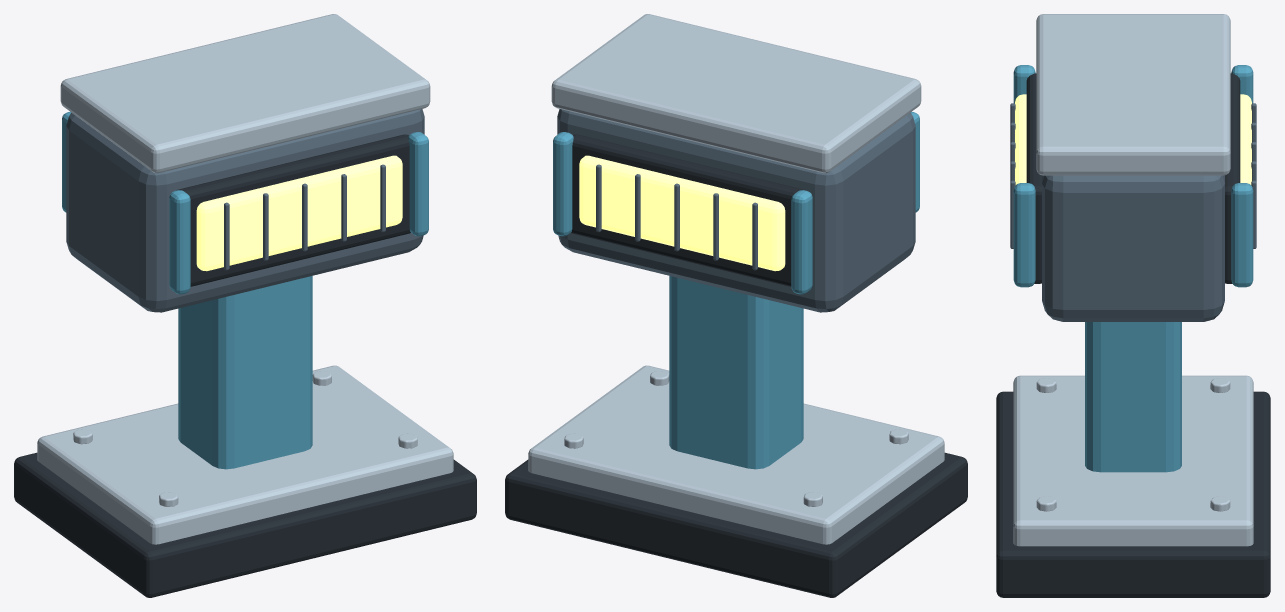
File: Beacon.fbx
The picture shows the model from 3 angles, left to right: view 1: azimuth 30°, elevation 25°; view 2: azimuth 150°, elevation 25°; view 3: azimuth 270°, elevation 25°; orthographic projection.
Visible parts, largest first — view 1: Crown | Roof cap, Base | Anodized plate, Crown | Rugged housing, Base | Isolation shoe, Stem | Powder coat, Front | Lens, Front | Recess, Front | Shock bumper -0.24, Front | Shock bumper 0.24; view 2: Crown | Roof cap, Base | Anodized plate, Crown | Rugged housing, Base | Isolation shoe, Stem | Powder coat, Back | Lens, Back | Recess, Back | Shock bumper -0.24, Back | Shock bumper 0.24; view 3: Crown | Roof cap, Base | Anodized plate, Crown | Rugged housing, Base | Isolation shoe, Stem | Powder coat, Back | Shock bumper 0.24, Front | Shock bumper 0.24, Back | Recess, Front | Recess, Back | Lens, Front | Lens, Back | Shock bumper -0.24 (+1 smaller).
Boxes of the visible parts, x1,y1,x2,y2 form: Crown | Roof cap: (60, 14, 430, 173); Base | Anodized plate: (37, 365, 453, 544); Crown | Rugged housing: (66, 109, 424, 312); Base | Isolation shoe: (14, 452, 476, 597); Stem | Powder coat: (178, 276, 312, 469); Front | Lens: (196, 155, 402, 271); Front | Recess: (176, 134, 410, 286); Front | Shock bumper -0.24: (169, 190, 190, 294); Front | Shock bumper 0.24: (408, 132, 428, 236); Crown | Roof cap: (551, 14, 921, 173); Base | Anodized plate: (528, 365, 944, 544); Crown | Rugged housing: (557, 109, 915, 312); Base | Isolation shoe: (505, 452, 967, 597); Stem | Powder coat: (669, 276, 803, 469); Back | Lens: (579, 155, 785, 271); Back | Recess: (571, 134, 805, 286); Back | Shock bumper -0.24: (791, 190, 812, 294); Back | Shock bumper 0.24: (553, 132, 573, 236); Crown | Roof cap: (1036, 14, 1230, 175); Base | Anodized plate: (1013, 375, 1253, 546); Crown | Rugged housing: (1042, 175, 1224, 321); Base | Isolation shoe: (996, 391, 1270, 597); Stem | Powder coat: (1085, 322, 1181, 472); Back | Shock bumper 0.24: (1231, 183, 1253, 287); Front | Shock bumper 0.24: (1013, 183, 1035, 287); Back | Recess: (1225, 73, 1240, 283); Front | Recess: (1026, 73, 1041, 283); Back | Lens: (1240, 94, 1251, 184); Front | Lens: (1015, 94, 1026, 184); Back | Shock bumper -0.24: (1231, 65, 1253, 103).
Bounding box in the file's own units: 68 × 84.45 × 48.
